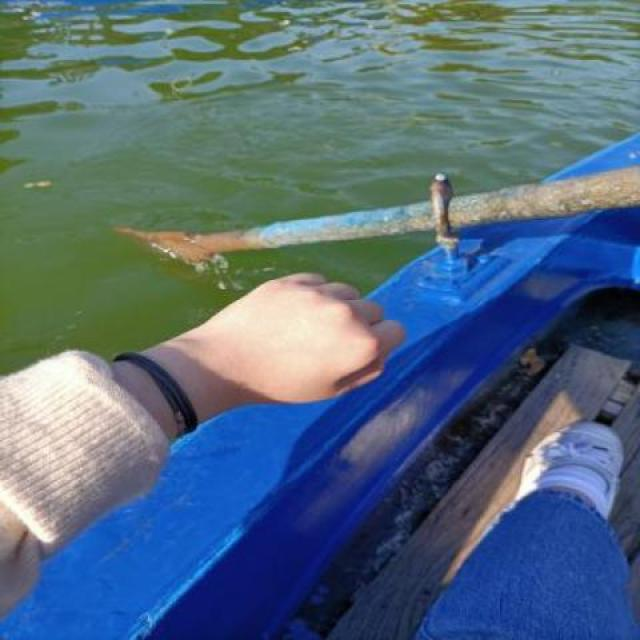Closed Hand: (181, 266, 411, 411)
